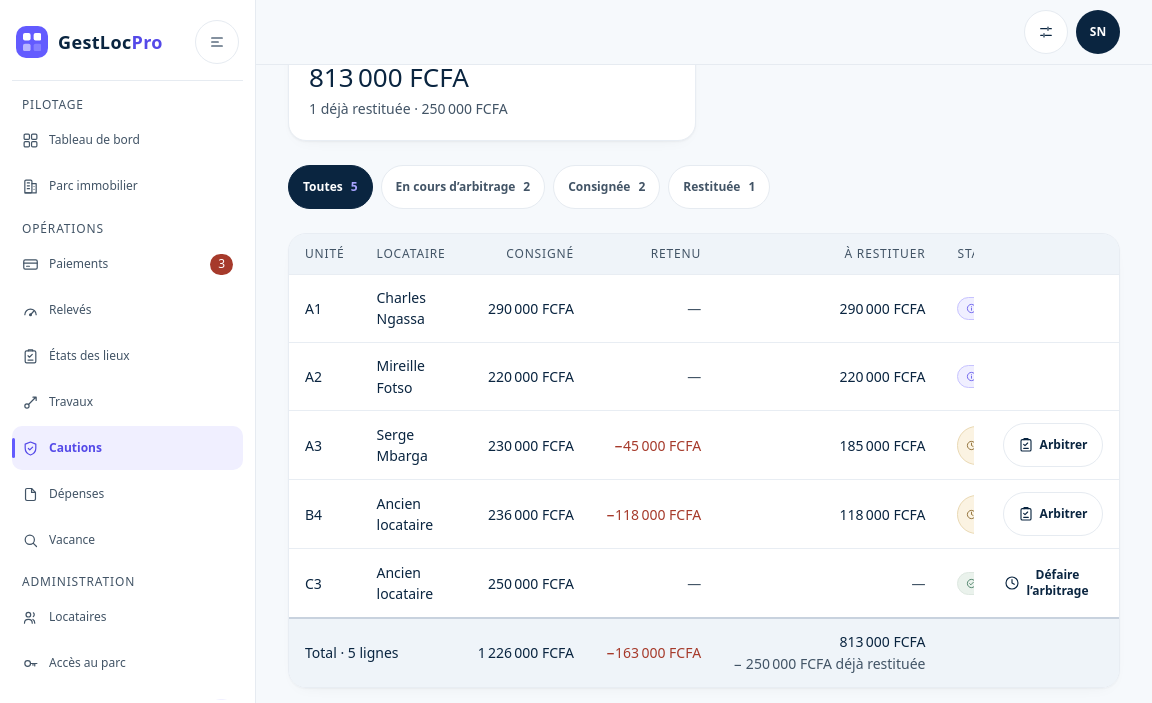
Test: arbitrage d’une caution › met à jour la ligne et les totaux
(page scrolled)
Click the button "Arbitrer" in the row of "A3". click: [1053, 445]
box: [1003,423,1103,467]
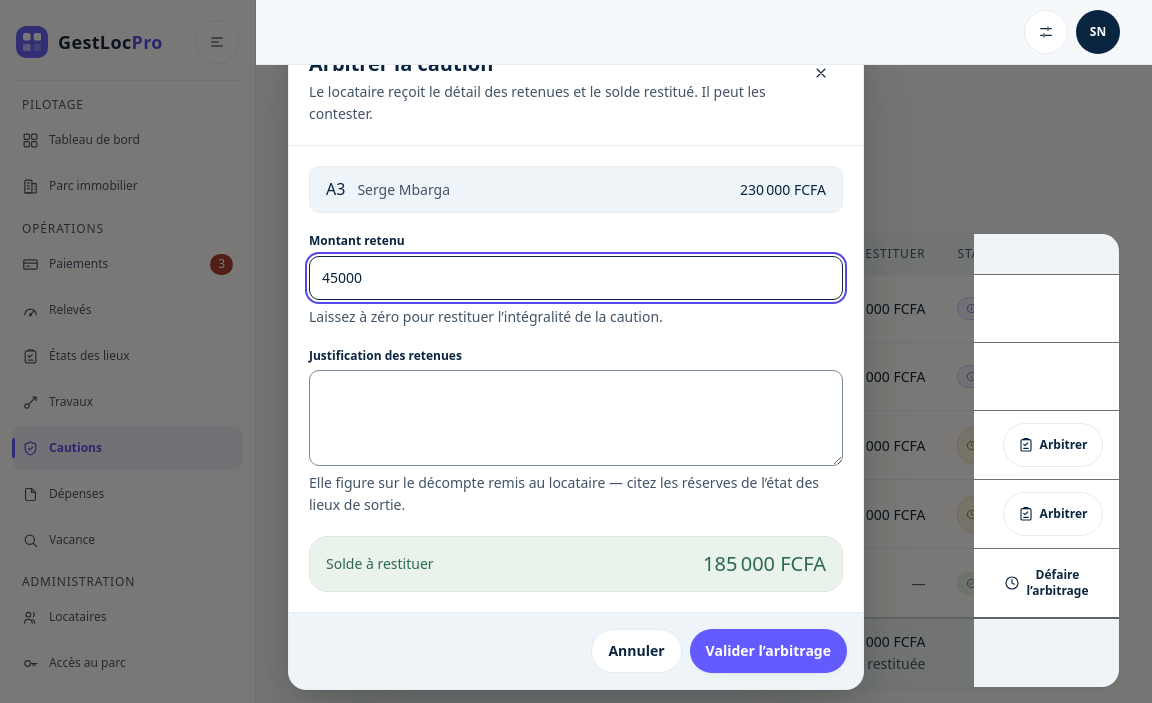
Replace the text in the field labelled "Montant retenu" with "30000". click: [576, 278]
box: [309,256,843,300]
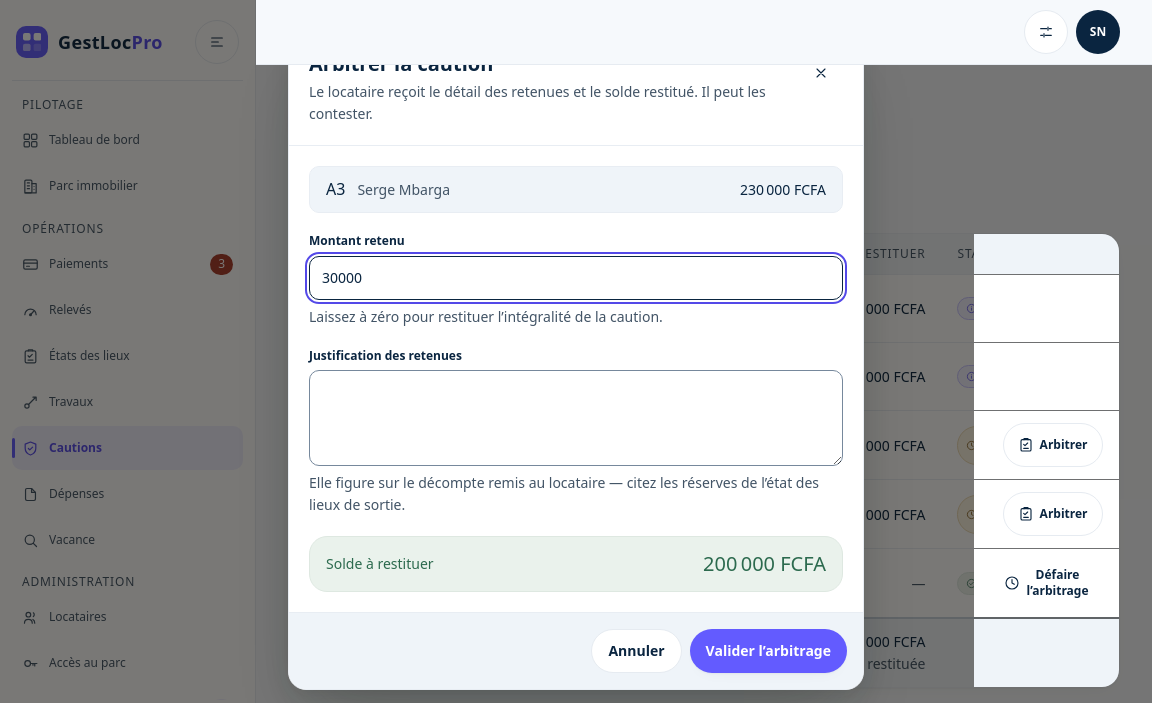
Type "Réserves de l’état des lieux." into the text box labelled "Justification des retenues". click: [576, 418]
box: [309,370,843,466]
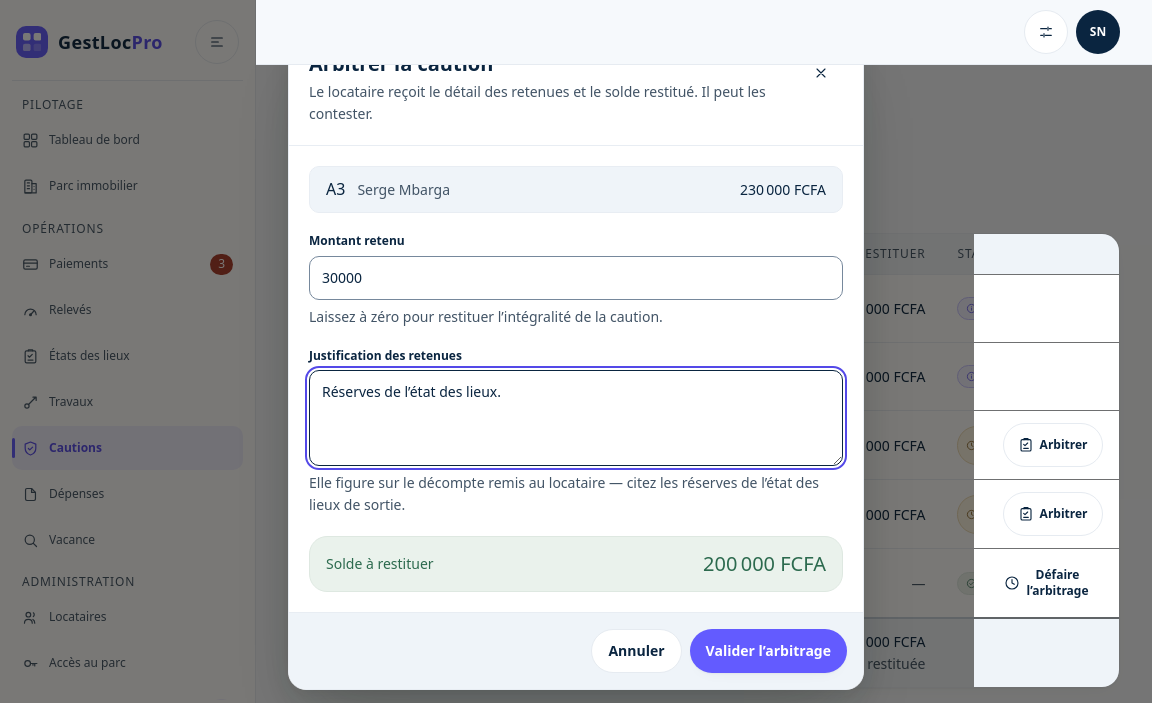
Click the button "Valider l’arbitrage". click: [768, 651]
box: [690,629,847,673]
(page scrolled)
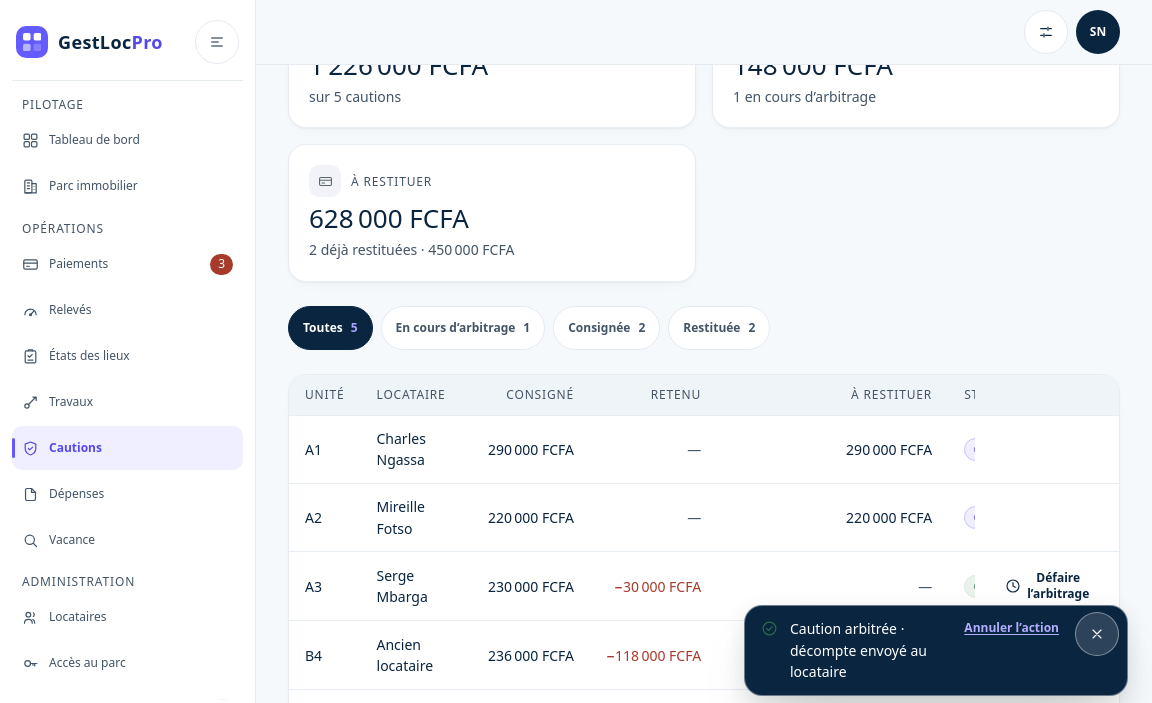
Now the number of buttons "Arbitrer" is 1, box [1003,633,1103,677]
Now the element that starts with "Cautions" shows "148", box [733,47,893,83]
